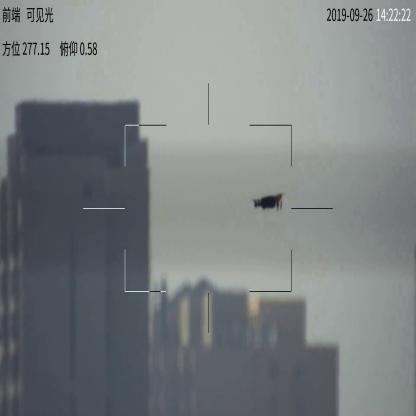uav: (248, 188, 287, 213)
